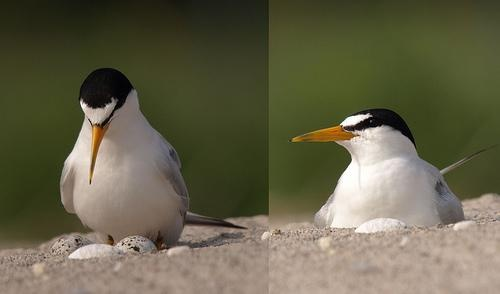bird: (56, 59, 236, 251), (282, 108, 500, 242)
